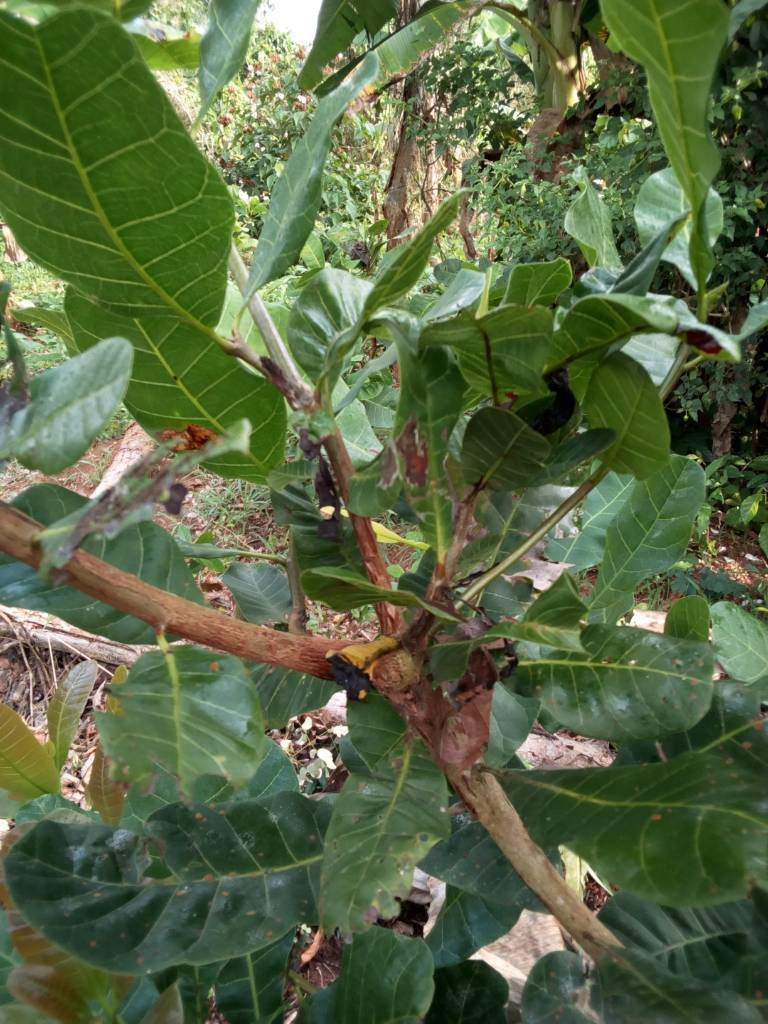Dessèchement des bourgeons: (401, 588, 467, 716), (221, 335, 299, 402)
